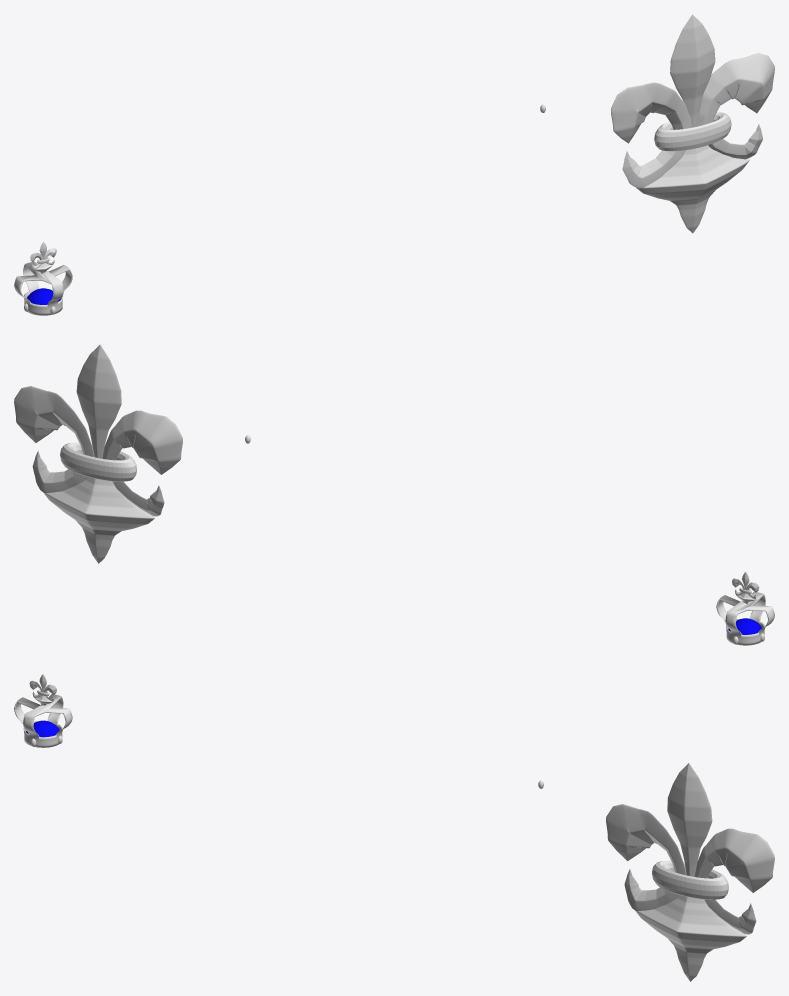
The model's file is Couronne.fbx.
The picture shows the model from 3 angles, top to bottom: view 1: azimuth 30°, elevation 25°; view 2: azimuth 150°, elevation 25°; view 3: azimuth 330°, elevation 25°; orthographic projection.
Visible parts, largest first — view 1: NurbsPath, NurbsPath.001, NurbsPath.002, Torus, Structure; view 2: NurbsPath, NurbsPath.001, NurbsPath.002, Torus, Structure; view 3: NurbsPath, NurbsPath.002, NurbsPath.001, Torus, Structure.
Part boxes in pixels (bbox=[...]): NurbsPath: bbox=[636, 14, 749, 233]; NurbsPath.001: bbox=[611, 82, 692, 188]; NurbsPath.002: bbox=[697, 53, 774, 159]; Torus: bbox=[654, 112, 731, 151]; Structure: bbox=[14, 261, 72, 315]; NurbsPath: bbox=[43, 344, 154, 563]; NurbsPath.001: bbox=[102, 410, 182, 516]; NurbsPath.002: bbox=[14, 386, 94, 493]; Torus: bbox=[60, 442, 136, 481]; Structure: bbox=[716, 591, 774, 645]; NurbsPath: bbox=[635, 763, 746, 981]; NurbsPath.002: bbox=[694, 828, 774, 934]; NurbsPath.001: bbox=[606, 804, 686, 911]; Torus: bbox=[652, 860, 728, 899]; Structure: bbox=[14, 694, 72, 747].
Bounding box in the file's own units: 4564 × 1263 × 325.
